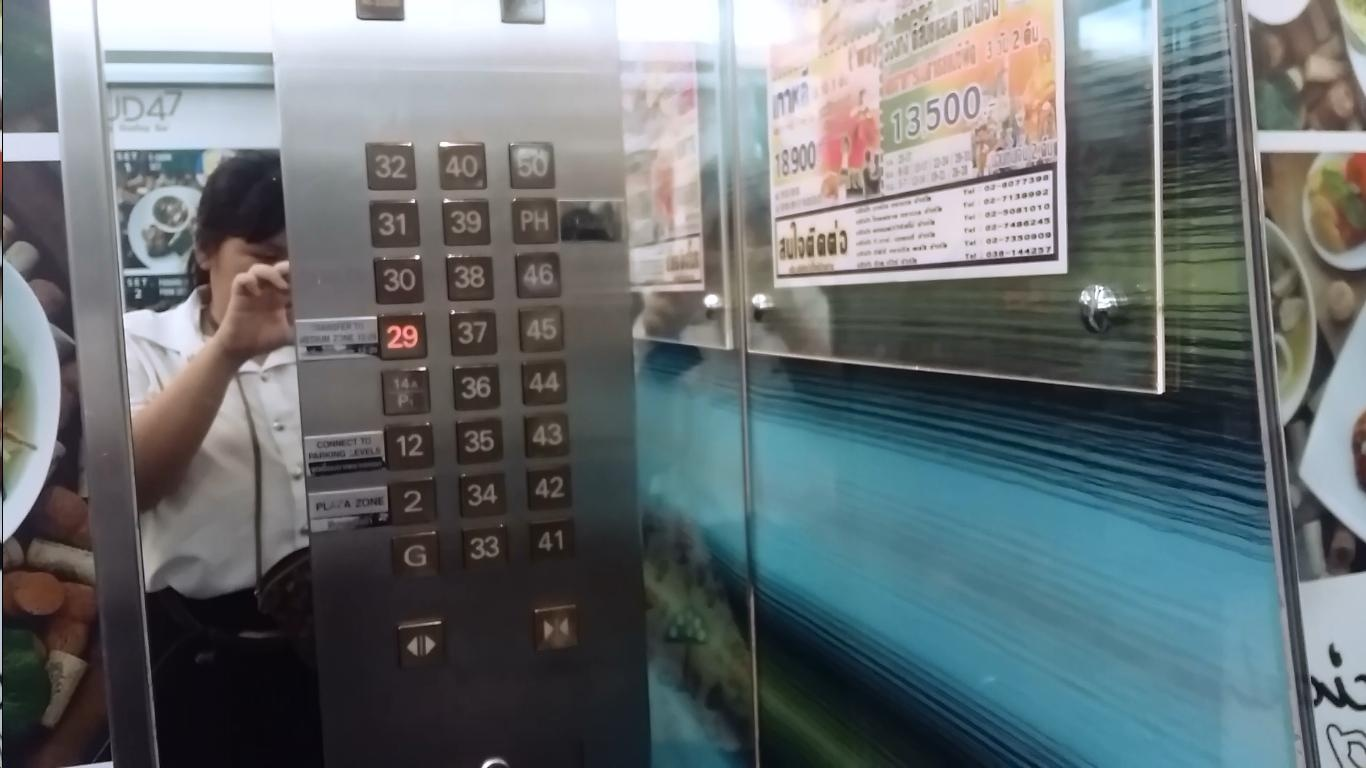12: (382, 422, 436, 470)
2: (386, 477, 437, 526)
29: (376, 313, 427, 361)
30: (371, 255, 426, 305)
31: (368, 199, 423, 250)
32: (364, 143, 417, 192)
33: (461, 524, 511, 574)
34: (458, 471, 509, 519)
35: (455, 417, 507, 466)
36: (450, 364, 502, 412)
37: (449, 309, 500, 356)
38: (444, 253, 495, 302)
39: (440, 197, 492, 249)
40: (436, 141, 490, 193)
41: (525, 518, 577, 568)
42: (525, 465, 573, 512)
43: (522, 413, 570, 460)
44: (520, 360, 568, 408)
45: (517, 307, 564, 354)
46: (515, 253, 563, 299)
50: (508, 141, 559, 191)
G: (389, 531, 440, 579)
PH: (511, 196, 563, 246)
close: (533, 605, 580, 655)
open: (397, 620, 447, 669)
unknown: (380, 365, 432, 416)
